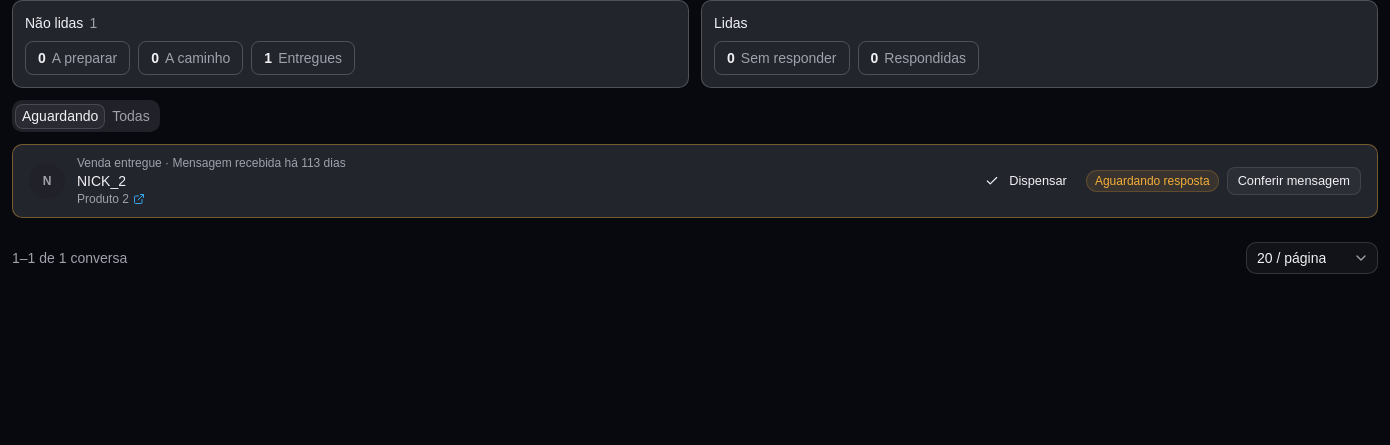
AbaMensagens: conversa aberta fica visível após o refetch que a reclassifica › Aguardando → abre → responde: o card solta a fixação e sai do filtro sem recarregar a página
Click the button "Conferir mensagem": (1294, 181) x1=1227 y1=167 x2=1361 y2=195
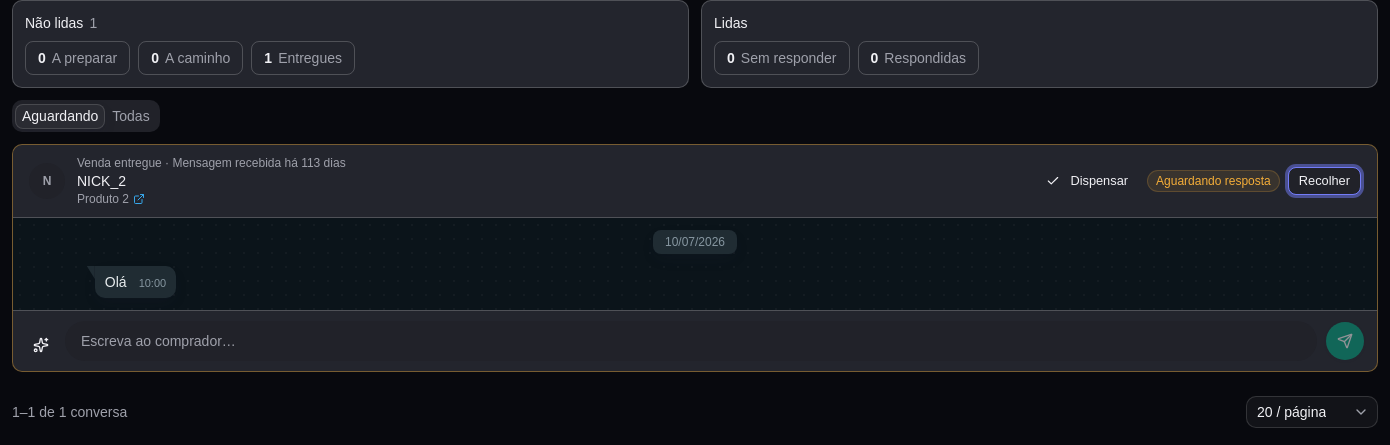
In the text box named "Mensagem ao comprador": (691, 341) x1=65 y1=321 x2=1317 y2=361, type "Resposta"
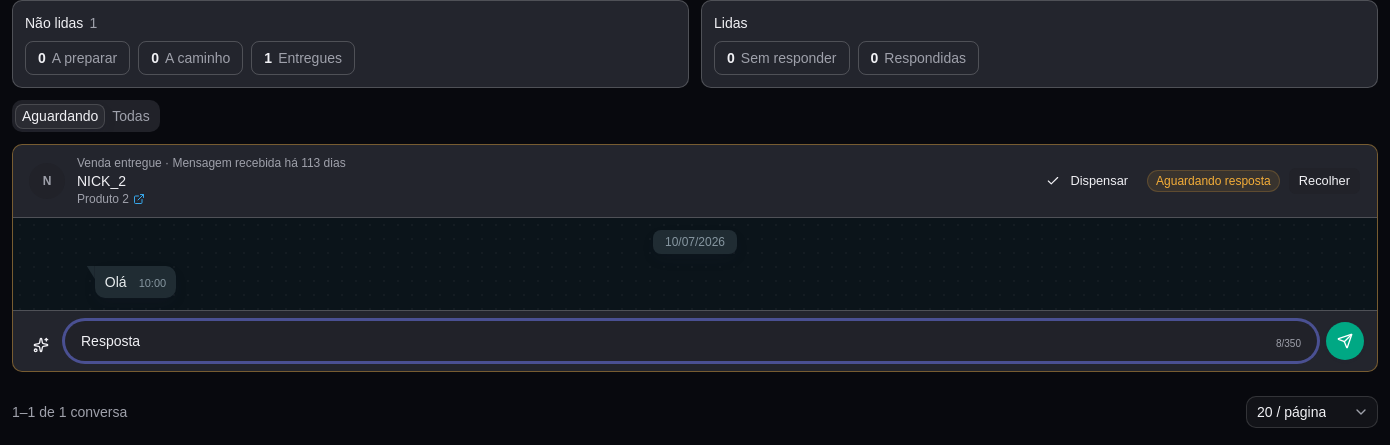
Click the button named "Responder": (1345, 341) x1=1325 y1=321 x2=1365 y2=361
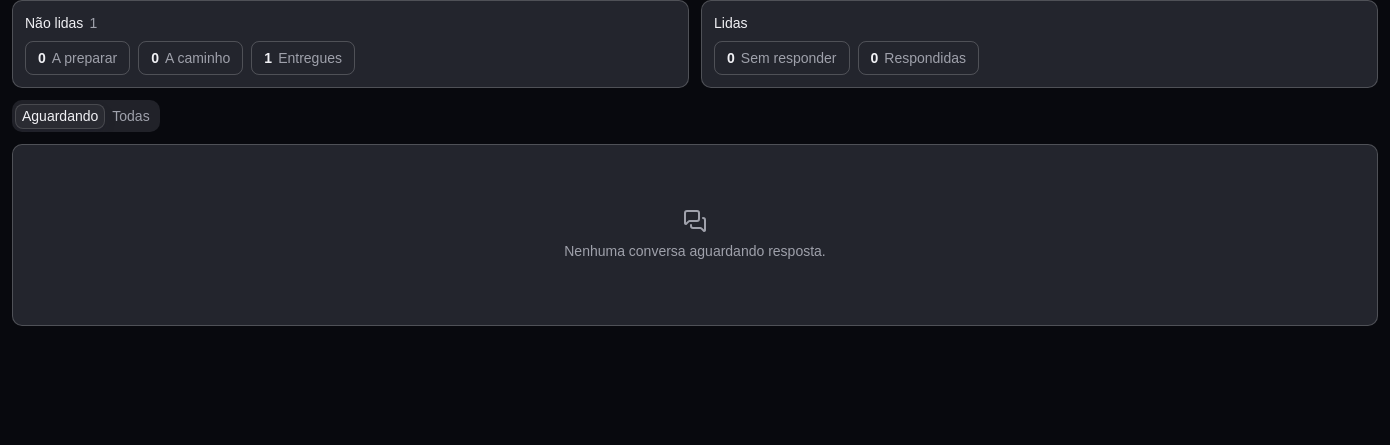
Expected: the text "Produto 2" is gone
